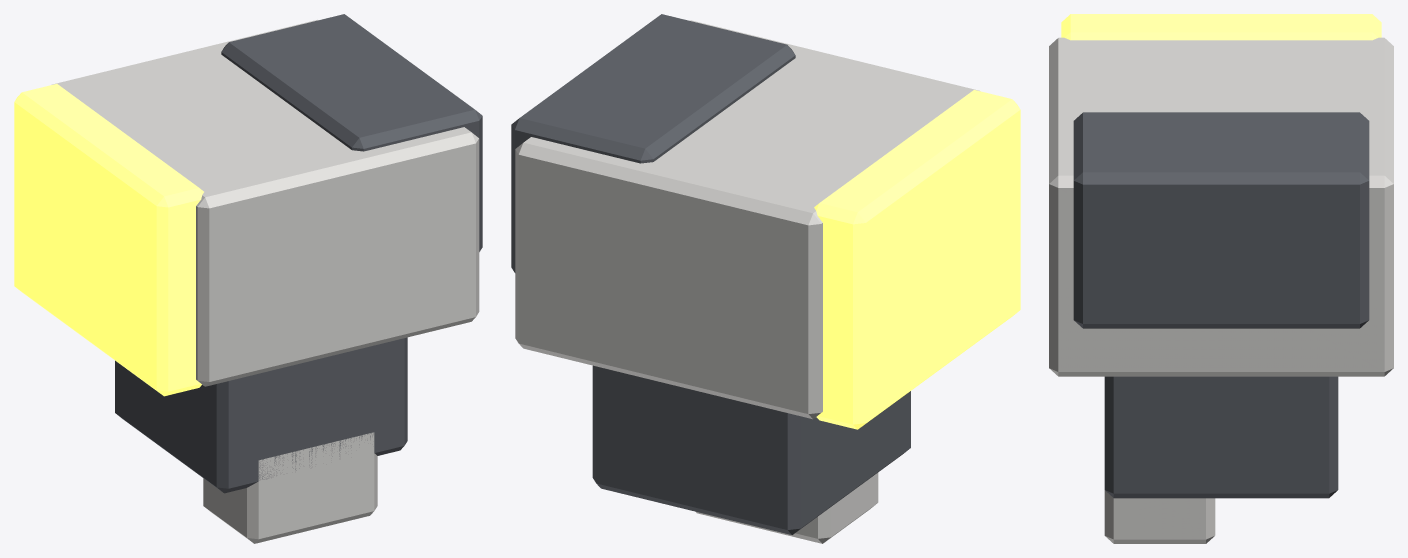
File: tankhead_arm_left_upper.glb
3 views of the same model, side by side, from view 1: azimuth 30°, elevation 25°; view 2: azimuth 150°, elevation 25°; view 3: azimuth 270°, elevation 25° (orthographic). The views are drawn at different scales.
Visible parts, largest first — view 1: tankhead_arm_left_upper; view 2: tankhead_arm_left_upper; view 3: tankhead_arm_left_upper.
Boxes of the visible parts, x1=… form: tankhead_arm_left_upper: x1=14, y1=14, x2=482, y2=543; tankhead_arm_left_upper: x1=511, y1=14, x2=1020, y2=543; tankhead_arm_left_upper: x1=1049, y1=14, x2=1393, y2=543.
Bounding box in the file's own units: 0.66 × 0.75 × 0.56.
